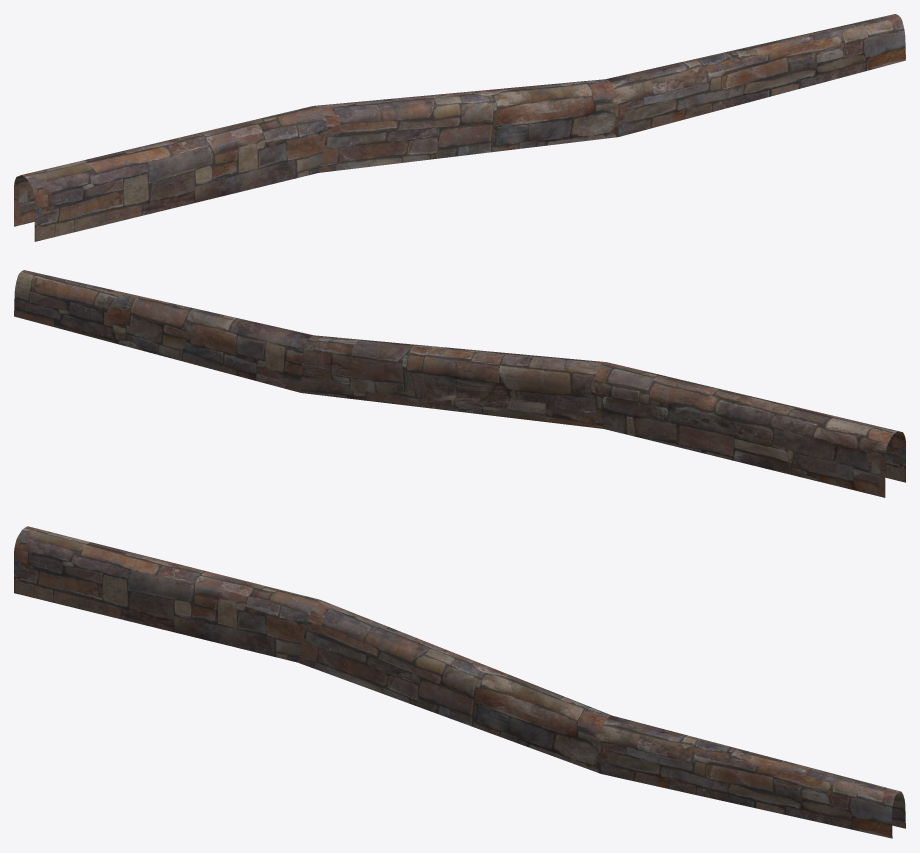
The model's file is Tunnel2.fbx.
The picture shows the model from 3 angles, top to bottom: view 1: azimuth 30°, elevation 25°; view 2: azimuth 150°, elevation 25°; view 3: azimuth 330°, elevation 25°; orthographic projection.
Parts seen in each view (by area): view 1: Tunnel2; view 2: Tunnel2; view 3: Tunnel2.
Boxes of the visible parts, left/top/right/bottom form: Tunnel2: left=14, top=14, right=905, bottom=241; Tunnel2: left=14, top=270, right=905, bottom=497; Tunnel2: left=14, top=526, right=905, bottom=838.
Size of the model in its own units: 48.71 by 5.14 by 2.02.
